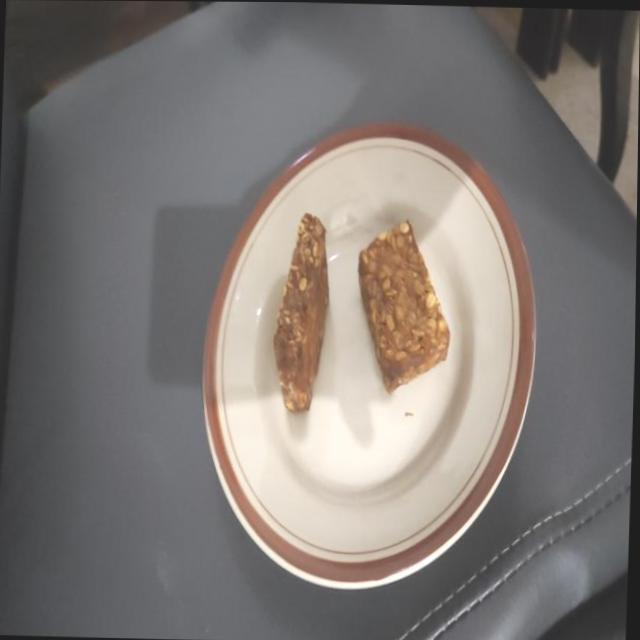tempe_goreng: (358, 220, 449, 393), (273, 213, 328, 412)
